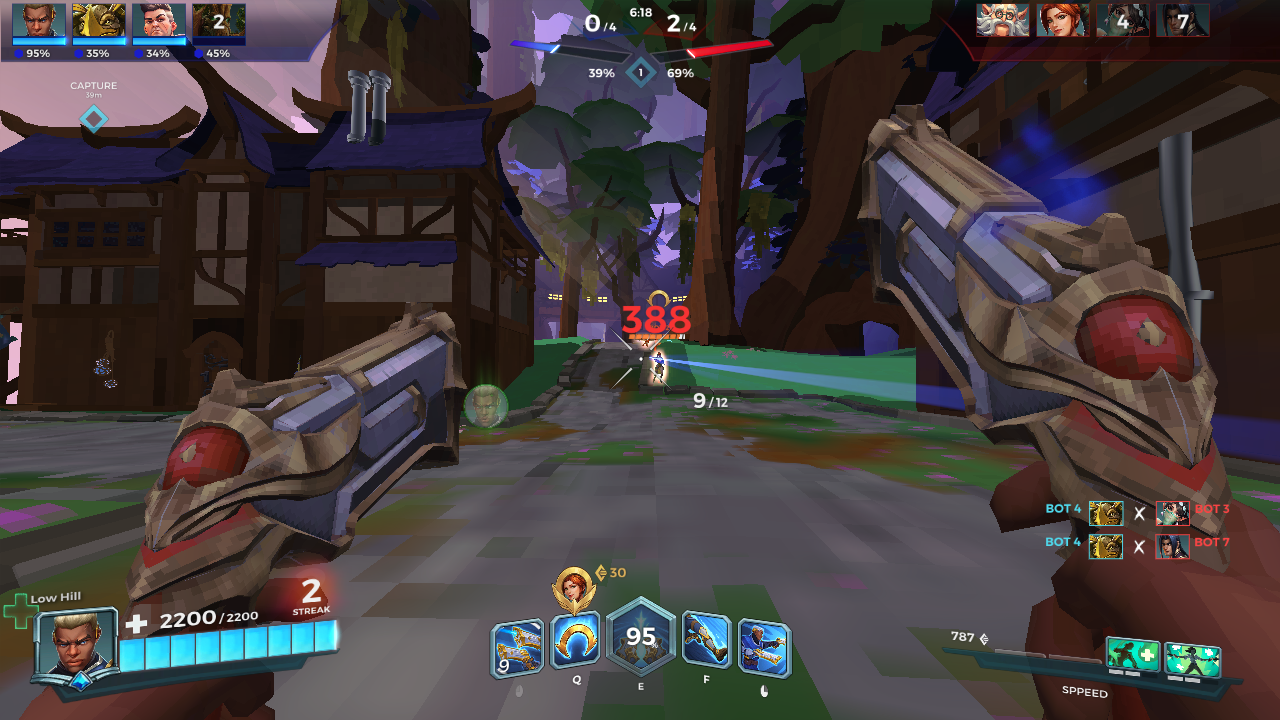model: (652, 346, 670, 389)
